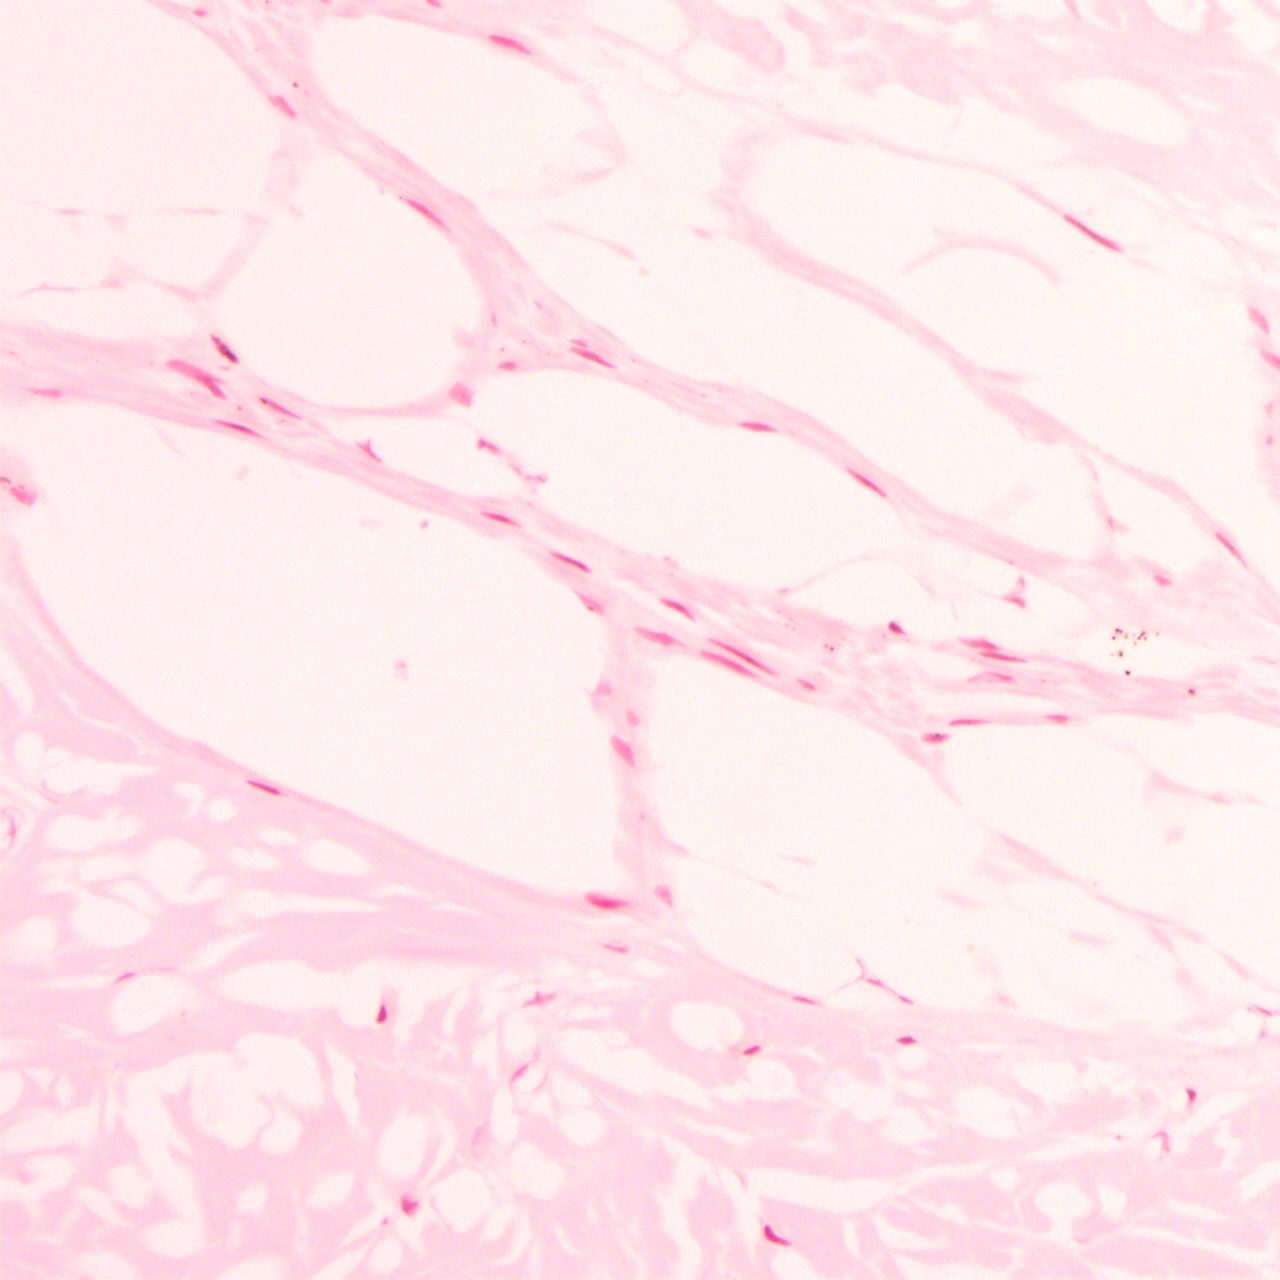dust: (290, 80, 299, 88), (1117, 651, 1125, 658), (1139, 629, 1148, 636), (1124, 670, 1130, 676), (1114, 626, 1119, 632), (1123, 632, 1128, 639), (1111, 635, 1116, 640), (1143, 636, 1148, 641), (1119, 628, 1123, 634), (1133, 641, 1137, 646), (1136, 636, 1141, 639)
nucleus-AC: (158, 349, 231, 404), (1054, 206, 1124, 256), (706, 635, 782, 678), (397, 188, 454, 238), (699, 645, 763, 683), (1208, 523, 1252, 573), (842, 462, 888, 502), (202, 325, 240, 369), (256, 392, 302, 424), (352, 429, 392, 467), (210, 414, 265, 440), (1240, 301, 1276, 339), (486, 30, 535, 57), (547, 549, 595, 576), (568, 342, 617, 369), (758, 1218, 794, 1254), (658, 592, 701, 621), (632, 622, 680, 648), (607, 729, 636, 770), (579, 890, 631, 912), (478, 505, 519, 529), (243, 774, 282, 797), (266, 89, 297, 120), (978, 648, 1028, 665), (445, 380, 474, 406), (956, 635, 1002, 651), (737, 420, 778, 433), (1152, 1126, 1171, 1155), (29, 384, 66, 399), (475, 437, 502, 456), (399, 1194, 421, 1217), (653, 883, 672, 908), (740, 1041, 764, 1060), (1000, 594, 1024, 610), (598, 942, 629, 954), (790, 992, 818, 1005), (1151, 572, 1172, 588), (919, 731, 951, 742), (1046, 713, 1069, 726), (949, 719, 992, 726), (375, 1003, 387, 1024), (1185, 1085, 1194, 1111), (887, 620, 903, 635), (896, 1034, 917, 1044), (496, 360, 517, 370), (193, 8, 207, 16), (1186, 688, 1196, 695)
